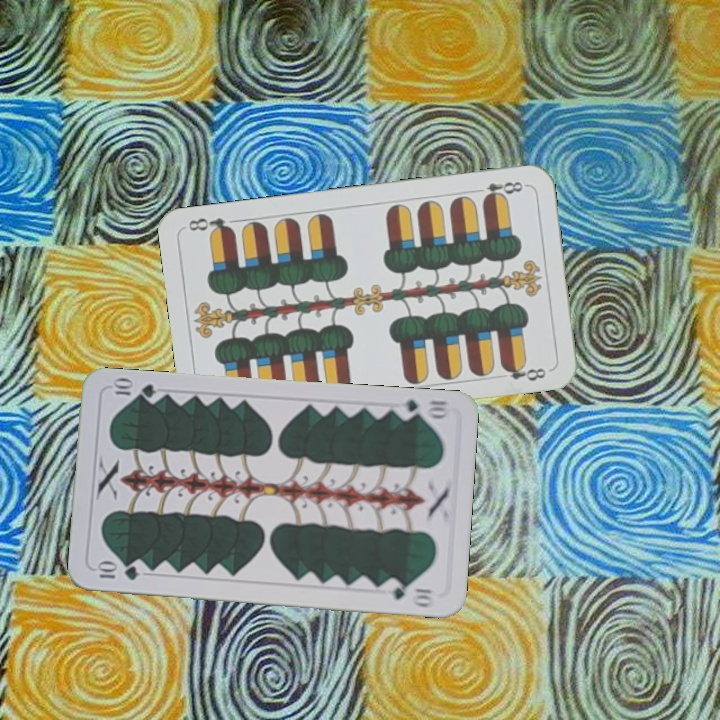E8: (479, 177, 529, 203)
G10: (393, 395, 452, 423), (93, 560, 141, 583)
